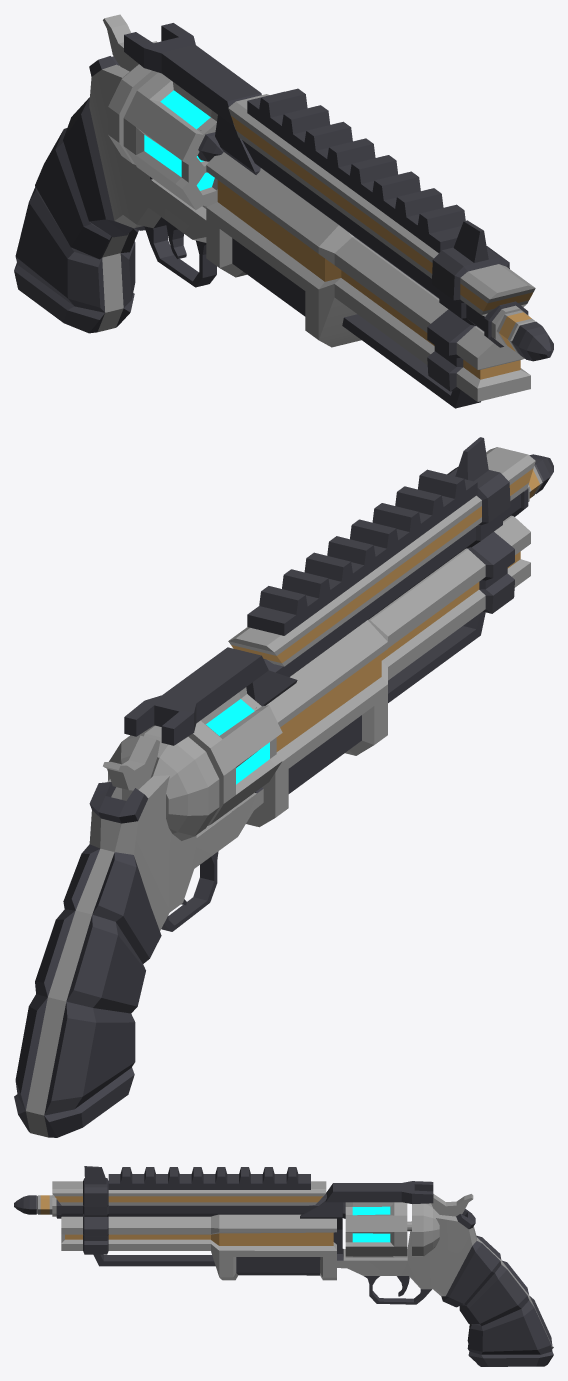
File: Weapon16.fbx
The picture shows the model from 3 angles, top to bottom: view 1: azimuth 30°, elevation 25°; view 2: azimuth 150°, elevation 25°; view 3: azimuth 270°, elevation 25°; orthographic projection. The views are drawn at different scales.
Parts seen in each view (by area): view 1: Skin, SM_Wep_Revolver_Cylinder_01, Model, SM_Wep_Revolver_Hammer_01, DropAmmo, SM_Wep_Revolver_Trigger_01; view 2: Skin, SM_Wep_Revolver_Cylinder_01, SM_Wep_Revolver_Hammer_01; view 3: Skin, SM_Wep_Revolver_Cylinder_01, Model, SM_Wep_Revolver_Hammer_01.
Part boxes in pixels (x1,y1,x2,y2): Skin: (14,23,535,408); SM_Wep_Revolver_Cylinder_01: (123,72,217,209); Model: (496,310,553,361); SM_Wep_Revolver_Hammer_01: (103,14,156,71); DropAmmo: (197,130,223,161); SM_Wep_Revolver_Trigger_01: (166,198,188,259); Skin: (14,437,535,1137); SM_Wep_Revolver_Cylinder_01: (153,687,282,825); SM_Wep_Revolver_Hammer_01: (103,735,159,800); Skin: (52,1166,553,1366); SM_Wep_Revolver_Cylinder_01: (345,1202,407,1257); Model: (14,1195,52,1214); SM_Wep_Revolver_Hammer_01: (431,1194,473,1216).
Bounding box in the file's own units: 7.57 × 27.12 × 67.48.
